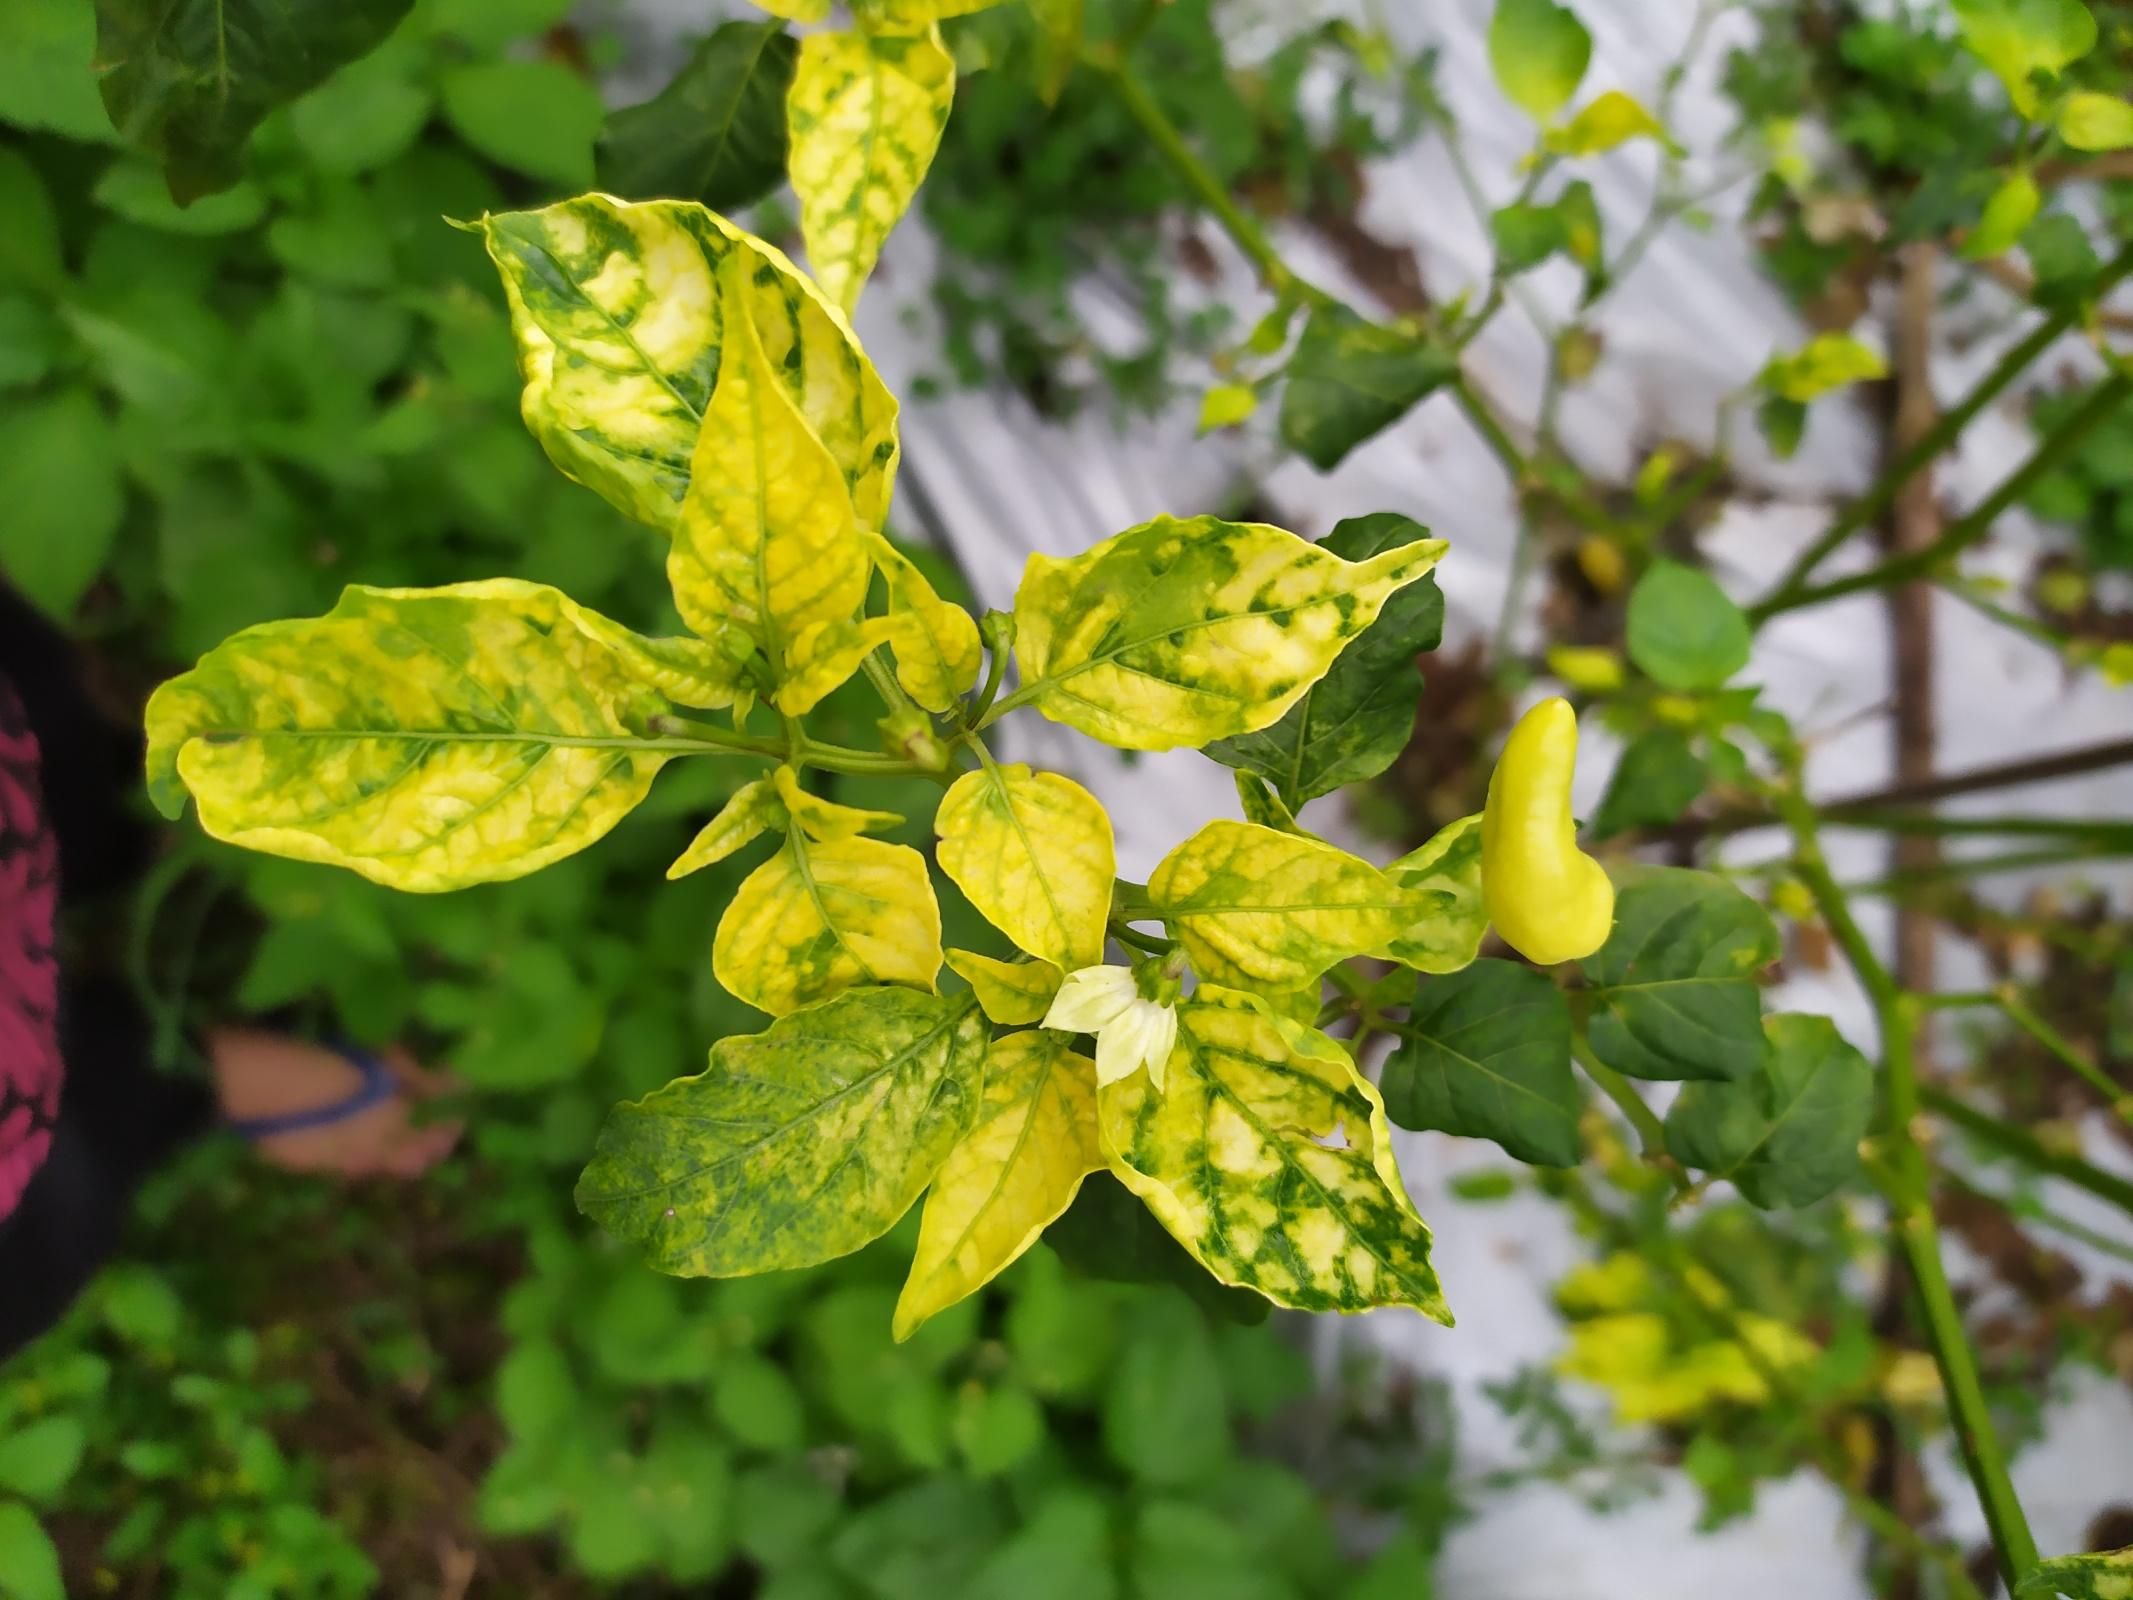cabai_normal: (1481, 699, 1617, 966)
